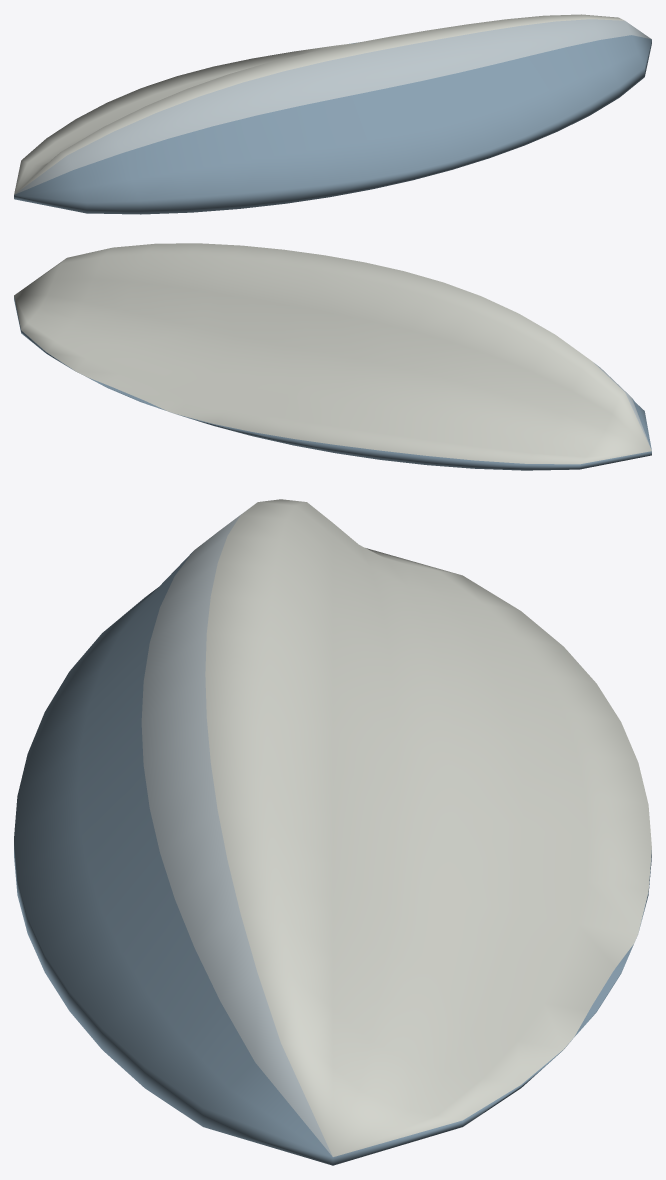
File: fw_snow_wind_drift.glb
3 renders of one model, top to bottom at view 1: azimuth 30°, elevation 25°; view 2: azimuth 150°, elevation 25°; view 3: azimuth 270°, elevation 25°, orthographic. The views are drawn at different scales.
Parts seen in each view (by area): view 1: body; view 2: body; view 3: body.
Boxes of the visible parts, x1,y1,x2,y2 form: body: (14,14,651,214); body: (14,243,651,470); body: (14,499,651,1165).
Bounding box in the file's own units: 3.9 × 0.5461 × 1.7.
